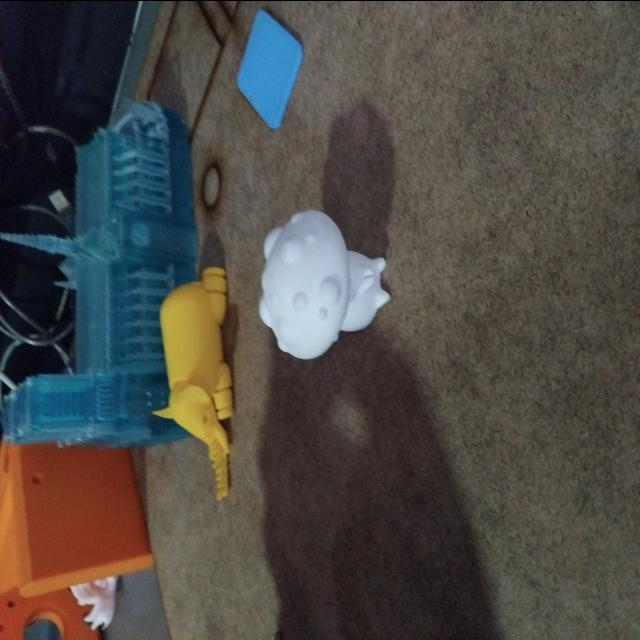Hongo: (250, 200, 391, 366)
